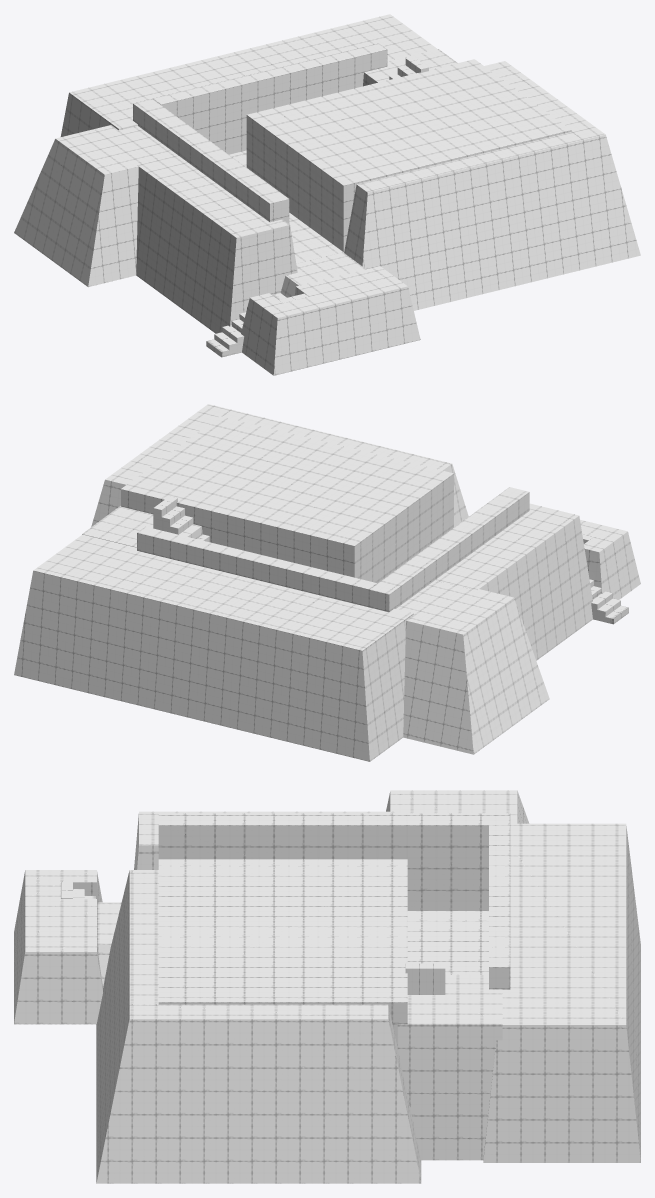
The model's file is castle.obj.
3 renders of one model, top to bottom at view 1: azimuth 30°, elevation 25°; view 2: azimuth 150°, elevation 25°; view 3: azimuth 270°, elevation 25°, orthographic. The views are drawn at different scales.
Parts seen in each view (by area): view 1: 床_壁1_1, 土台3, 土台7, 土台6, 土台1床1, 土台4, 土台2床2, 土台5, 階段下; view 2: 土台4, 床_壁1_1, 土台6, 土台7, 土台3, 土台1床1, 土台5, 階段1_2上, 階段下; view 3: 床_壁1_1, 土台3, 土台4, 土台5, 土台1床1, 土台6, 土台7, 階段1_2上, 土台2床2.
Part boxes in pixels (x1,y1,x2,y2): 床_壁1_1: [133, 43, 571, 263]; 土台3: [344, 61, 640, 310]; 土台7: [136, 155, 297, 333]; 土台6: [14, 125, 176, 286]; 土台1床1: [241, 266, 420, 375]; 土台4: [60, 14, 436, 136]; 土台2床2: [280, 252, 365, 297]; 土台5: [363, 49, 457, 86]; 階段下: [206, 293, 286, 357]; 土台4: [14, 534, 413, 761]; 床_壁1_1: [121, 416, 529, 611]; 土台6: [396, 580, 549, 754]; 土台7: [435, 503, 592, 660]; 土台3: [91, 404, 468, 527]; 土台1床1: [580, 519, 640, 599]; 土台5: [82, 506, 202, 547]; 階段1_2上: [153, 496, 209, 541]; 階段下: [589, 579, 628, 624]; 床_壁1_1: [158, 813, 510, 1045]; 土台3: [96, 870, 421, 1183]; 土台4: [483, 823, 640, 1162]; 土台5: [397, 974, 502, 1160]; 土台1床1: [14, 870, 102, 1024]; 土台6: [386, 790, 529, 823]; 土台7: [134, 811, 395, 869]; 階段1_2上: [405, 963, 445, 994]; 土台2床2: [97, 902, 121, 987].
Size of what is drawn, in the model's own units: 27.7 by 9.16 by 26.14.
